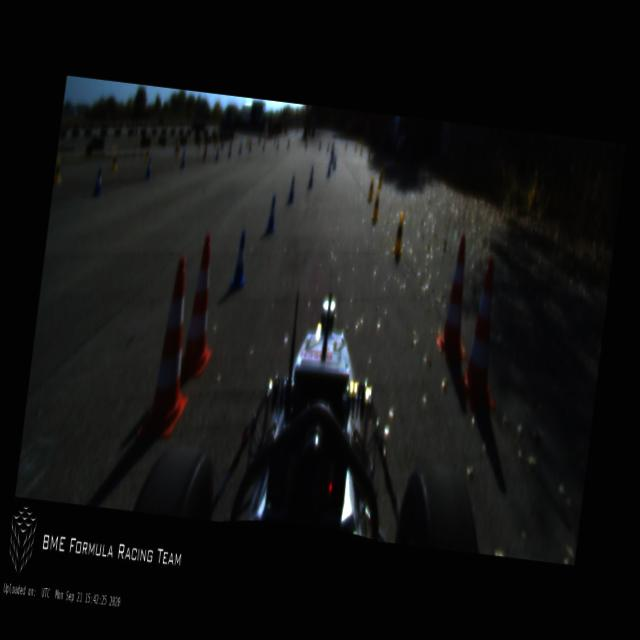blue_cone: (228, 228, 250, 292), (264, 193, 278, 234), (90, 167, 104, 199), (286, 176, 296, 203), (144, 154, 152, 180), (306, 164, 314, 189), (326, 158, 332, 177), (180, 152, 186, 168), (332, 152, 337, 170), (214, 146, 220, 160), (227, 143, 232, 157), (330, 147, 334, 163), (330, 140, 334, 155), (238, 141, 242, 154), (304, 137, 308, 149), (262, 140, 266, 152), (318, 139, 322, 150), (286, 140, 290, 151), (248, 140, 252, 151), (326, 142, 329, 152), (276, 140, 278, 149)
large_orange_cone: (136, 254, 206, 446), (453, 253, 513, 414), (178, 234, 225, 380), (433, 232, 480, 364)
yellow_cone: (391, 212, 406, 256), (371, 188, 382, 222), (53, 156, 64, 184), (110, 148, 119, 172), (367, 176, 375, 202), (144, 146, 150, 164), (377, 169, 382, 189), (175, 142, 180, 156), (220, 136, 225, 150), (232, 134, 236, 148), (213, 138, 217, 151), (372, 154, 376, 166), (359, 145, 363, 156), (197, 140, 200, 154), (246, 136, 250, 146), (288, 135, 291, 146), (344, 142, 347, 152), (273, 134, 276, 144), (354, 143, 357, 152), (368, 150, 370, 160), (258, 136, 260, 146)
